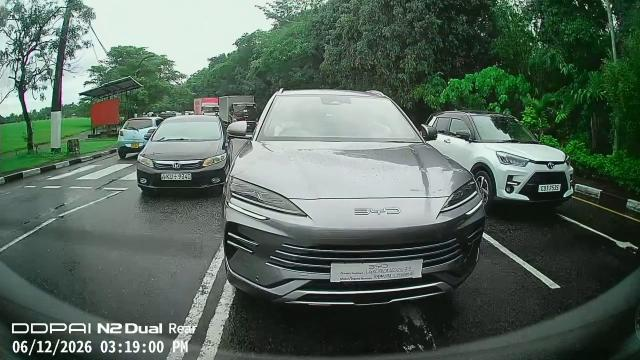illegal overtaking: (140, 107, 231, 196)
number plate: (154, 167, 194, 183)
